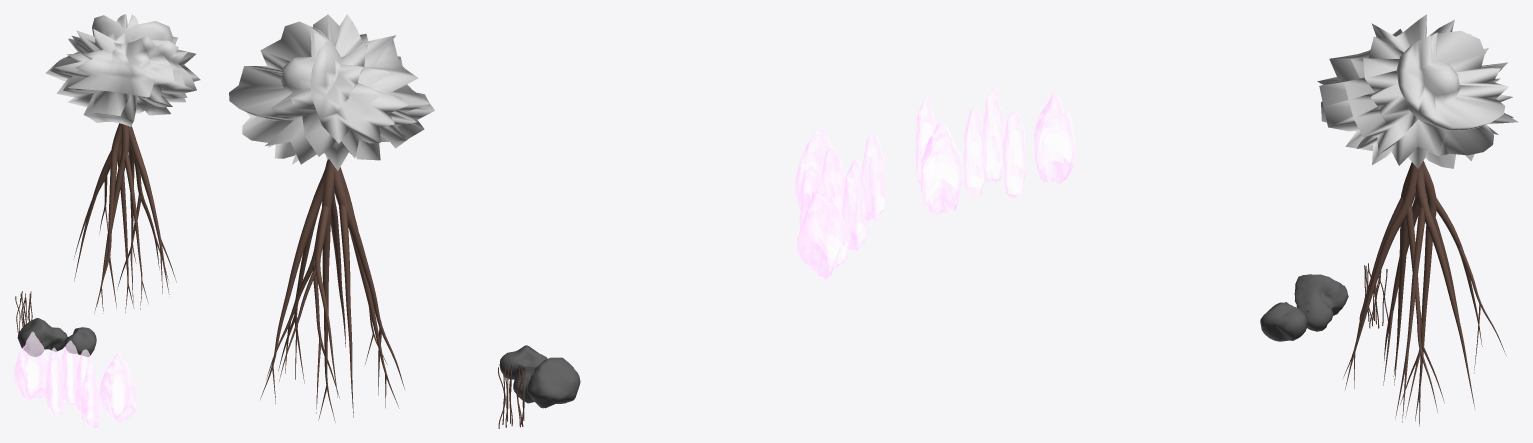
Rendered from ExtraAssets.fbx.
The picture shows the model from 3 angles, left to right: view 1: azimuth 30°, elevation 25°; view 2: azimuth 150°, elevation 25°; view 3: azimuth 270°, elevation 25°; orthographic projection. The views are drawn at different scales.
Parts seen in each view (by area): view 1: Sphere.003, tree.002, Cube.034, Cube.035, rock.002, Cube.033, Cube.031, Cube.032, Cube.030, rock.001; view 2: Sphere.003, tree.002, Cube.035, Cube.034, rock.002, Cube.033, Cube.031, Cube.032, Cube.030, rock.001; view 3: Sphere.003, tree.002, Cube.034, Cube.035, rock.002, Cube.031, Cube.033, Cube.030, Cube.032, rock.001.
Part boxes in pixels (x1,y1,x2,y2): Sphere.003: [45, 14, 200, 126]; tree.002: [73, 123, 176, 314]; Cube.034: [99, 352, 137, 422]; Cube.035: [14, 332, 50, 399]; rock.002: [17, 318, 67, 356]; Cube.033: [45, 347, 64, 414]; Cube.031: [61, 340, 79, 405]; Cube.032: [81, 365, 100, 428]; Cube.030: [75, 349, 93, 413]; rock.001: [64, 327, 96, 356]; Sphere.003: [229, 14, 434, 170]; tree.002: [260, 159, 405, 422]; Cube.035: [797, 182, 849, 279]; Cube.034: [795, 128, 846, 214]; rock.002: [513, 357, 580, 408]; Cube.033: [841, 159, 867, 251]; Cube.031: [799, 165, 824, 251]; Cube.032: [861, 133, 886, 221]; Cube.030: [821, 147, 845, 236]; rock.001: [499, 345, 547, 379]; Sphere.003: [1317, 14, 1518, 168]; tree.002: [1343, 161, 1506, 426]; Cube.034: [920, 121, 962, 215]; Cube.035: [1033, 91, 1075, 183]; rock.002: [1294, 274, 1348, 331]; Cube.031: [1002, 111, 1025, 198]; Cube.033: [982, 88, 1004, 182]; Cube.030: [963, 108, 985, 195]; Cube.032: [915, 98, 936, 189]; rock.001: [1260, 302, 1307, 341].
Size of the model in its own units: 278 by 255 by 353.
